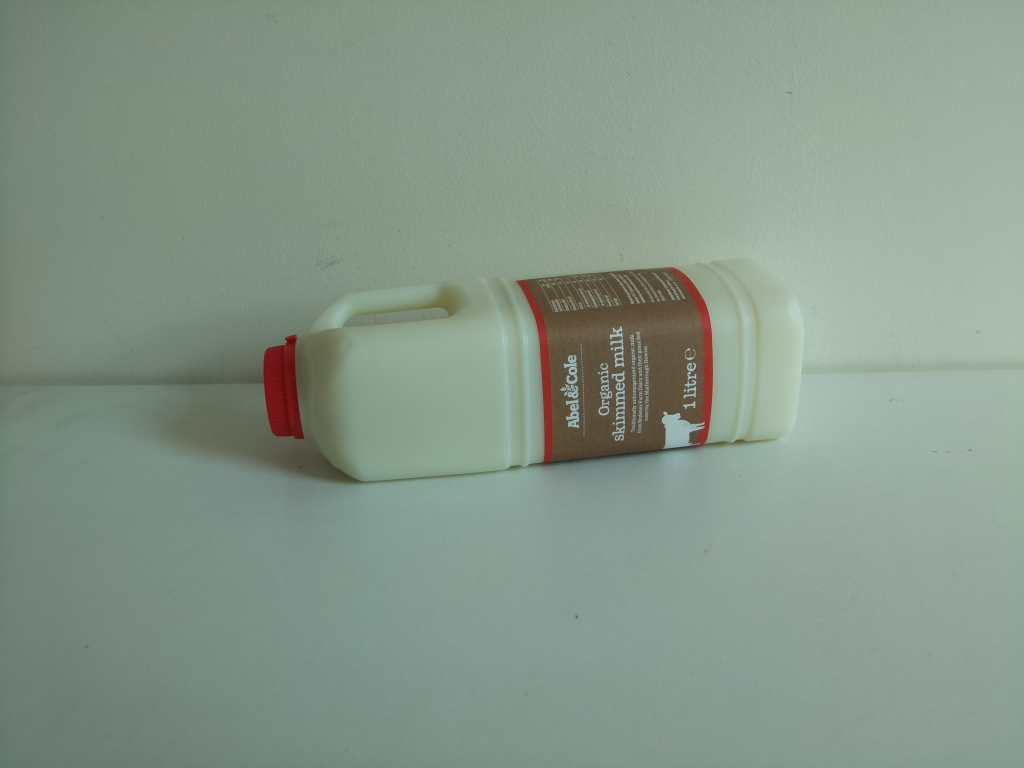milk: (254, 252, 810, 491)
